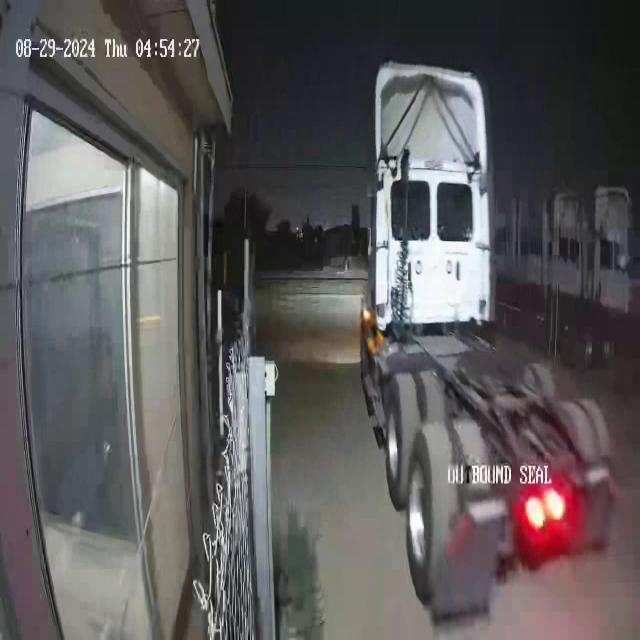TRUCK_OUT: (358, 58, 622, 624)
